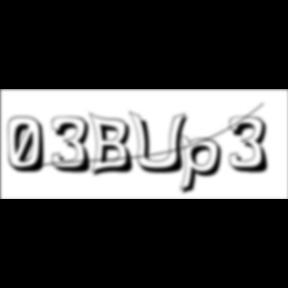0: (8, 115, 53, 174)
3: (52, 116, 98, 176), (230, 116, 276, 176)
B: (89, 111, 139, 179)
U: (128, 110, 194, 176)
p: (178, 132, 228, 198)
